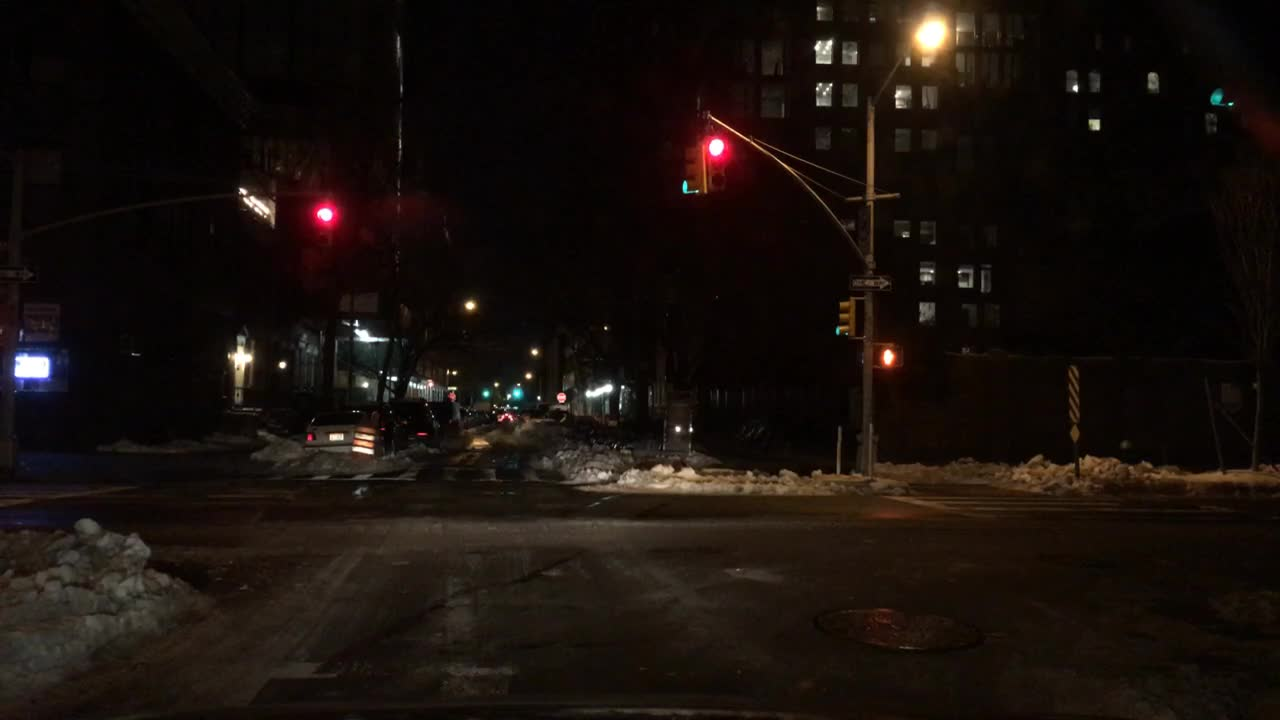car: (351, 400, 410, 450), (305, 409, 369, 449), (410, 398, 445, 444), (607, 425, 656, 454), (435, 401, 462, 429), (566, 414, 596, 436), (587, 422, 612, 446), (499, 406, 515, 426), (525, 416, 556, 426), (464, 410, 476, 427), (516, 408, 546, 414), (476, 410, 487, 426)
traffic light: (834, 299, 863, 336), (706, 134, 723, 188), (683, 142, 701, 192), (874, 341, 900, 366), (319, 204, 330, 245)
traffic sign: (850, 274, 893, 289), (0, 267, 39, 281), (445, 393, 456, 401), (556, 393, 566, 401), (449, 384, 459, 391)
